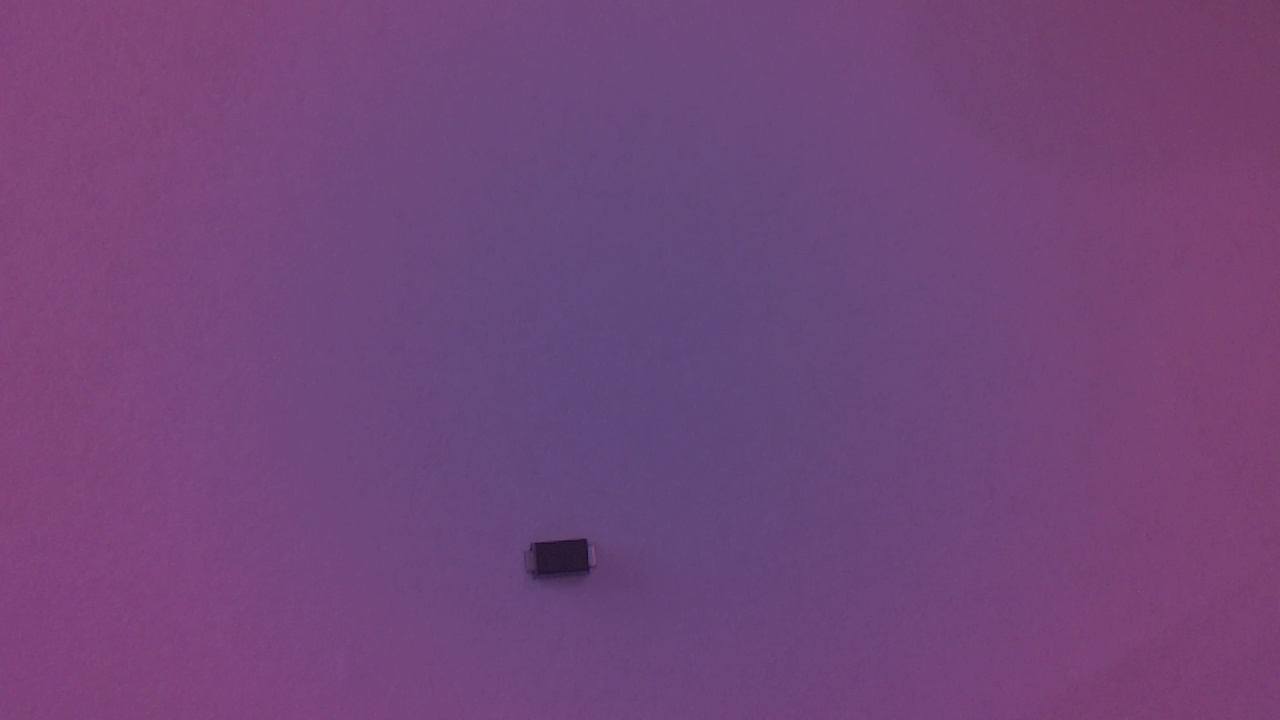Diode: (523, 540, 606, 588)
